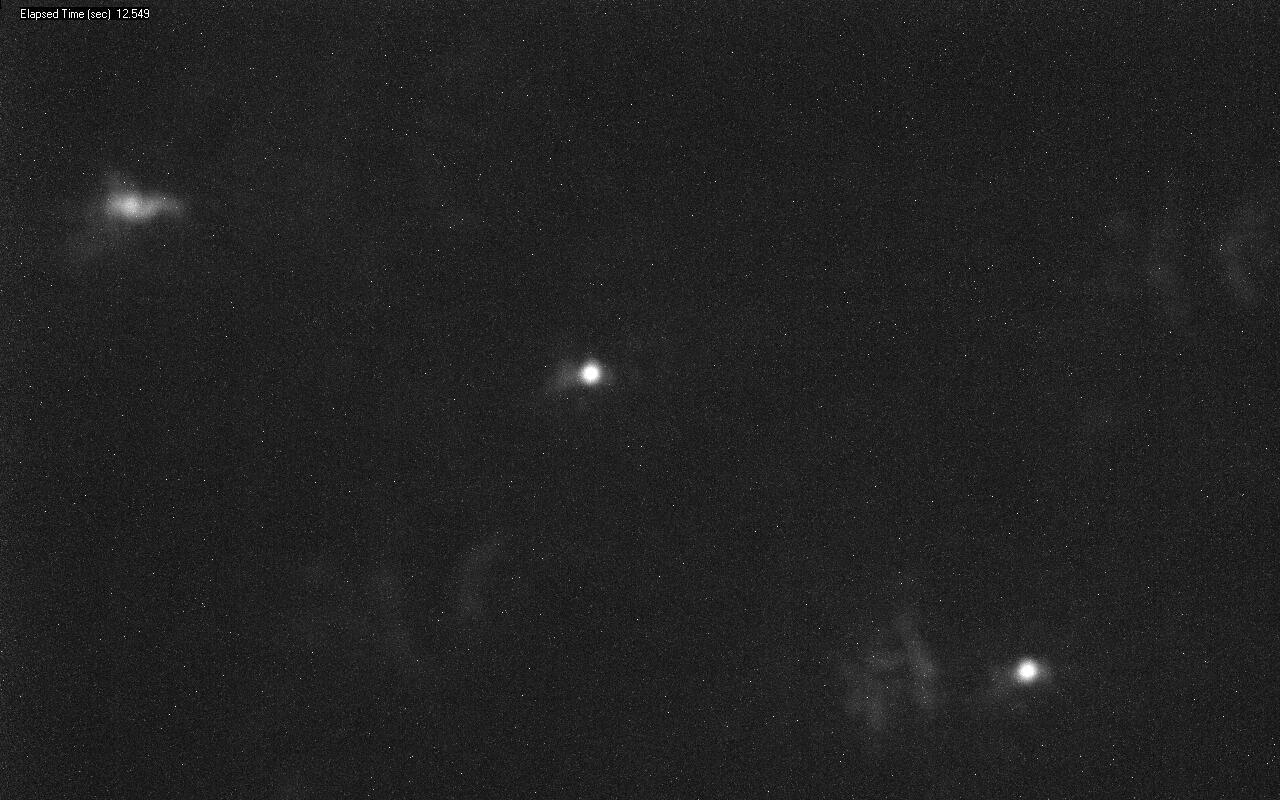Bead: (579, 363, 600, 384), (1018, 660, 1038, 682)
